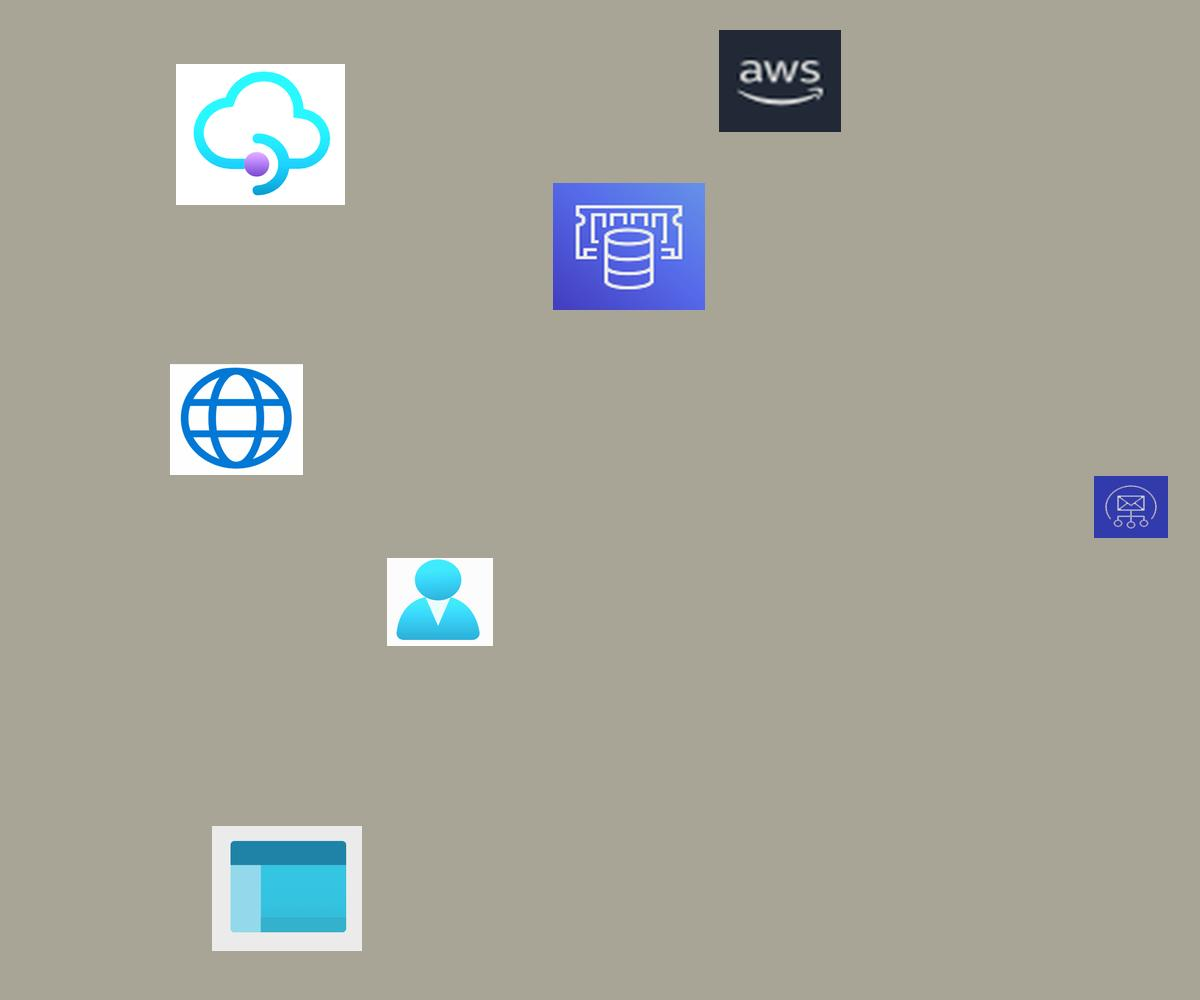AWS-Cloud-logo: (719, 30, 841, 132)
AWS-ElastiCache: (553, 183, 705, 310)
AWS-Simple-Email-Service: (1094, 476, 1168, 538)
Azure_api_gateway: (176, 64, 345, 205)
Azure_http: (170, 364, 303, 475)
Azure_management-portal: (212, 826, 362, 951)
Azure_users: (387, 558, 493, 646)
